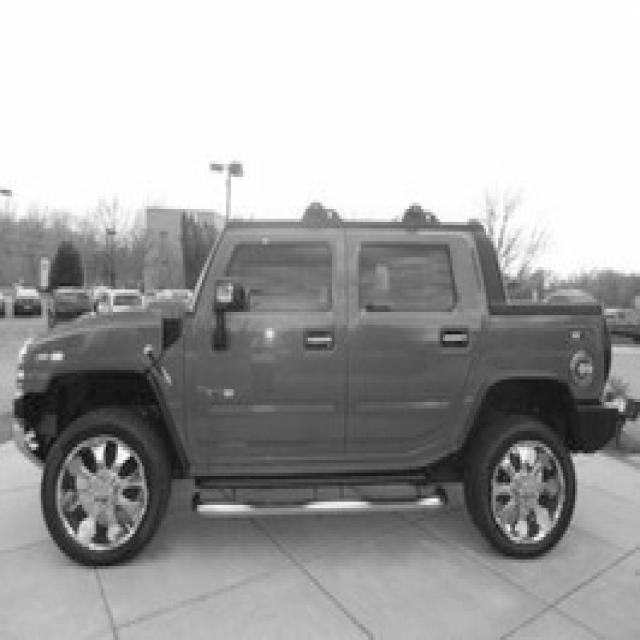car: (13, 214, 640, 569)
